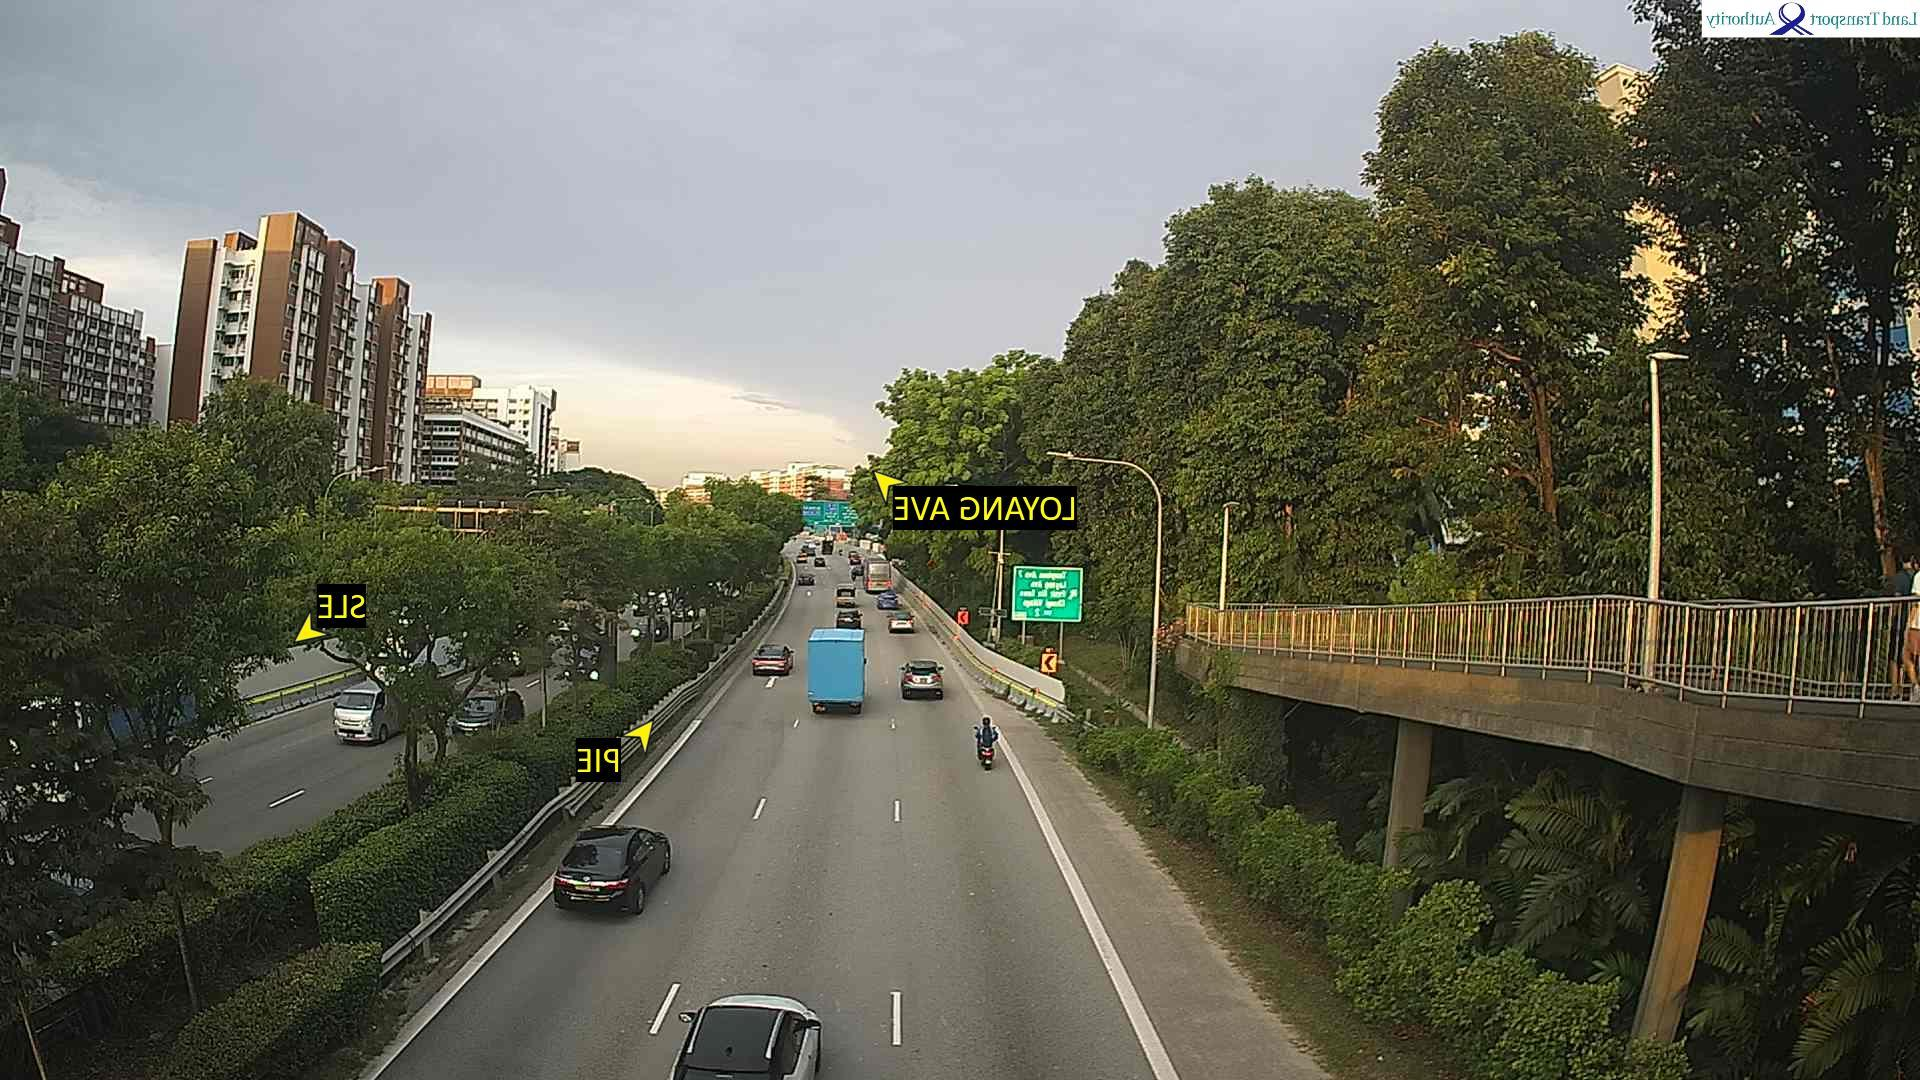incoming: (331, 691, 385, 749)
